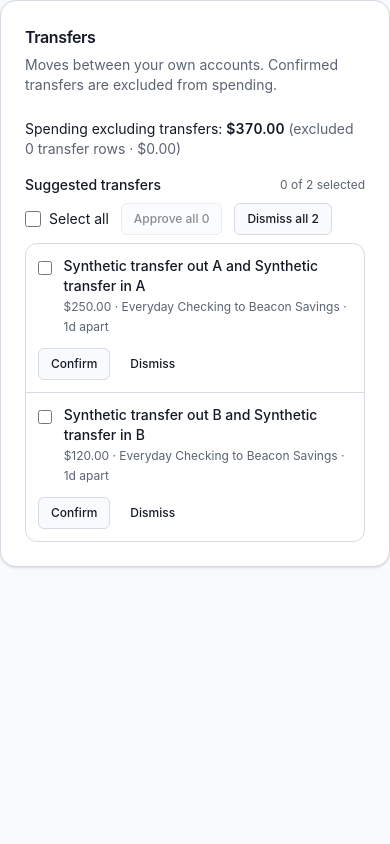
Test case: transfers section › requires confirm before dismiss-all touches any flags
Click the button "Dismiss all 2": (283, 219) [234,203,332,235]
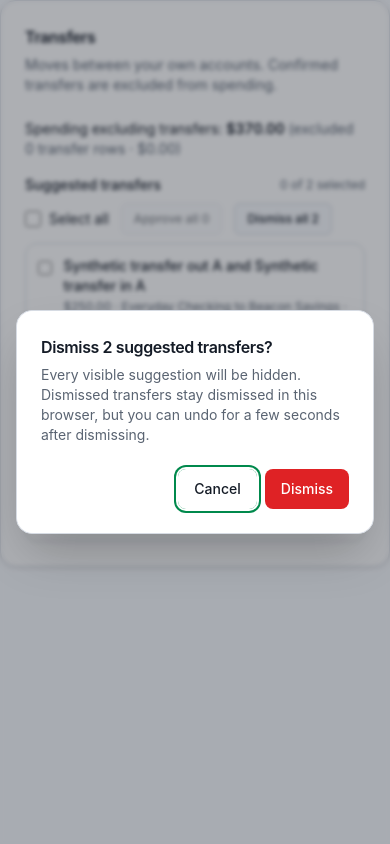
Result: the dialog "Dismiss 2 suggested transfers?" is shown at [16,310,374,534]
Click the button "Cancel": (218, 489) [178,469,257,509]
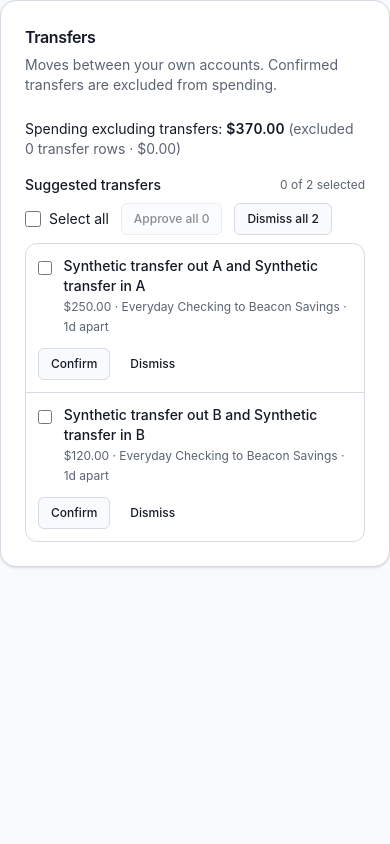
Result: the dialog is gone
